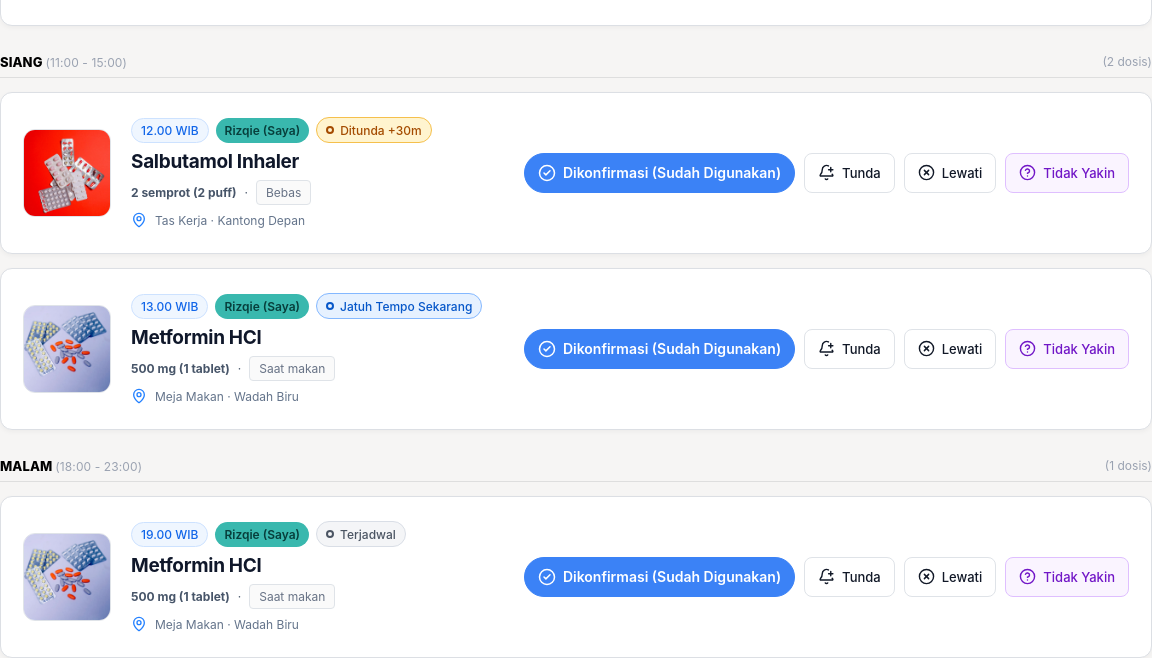
Test: TodayPage › mencatat tidak yakin dari popup sebagai status final
The width and height of the screenshot is (1152, 658).
(page scrolled)
Click the 2nd button "Tidak Yakin" at coordinates (1067, 349), box [1005,329,1129,369]
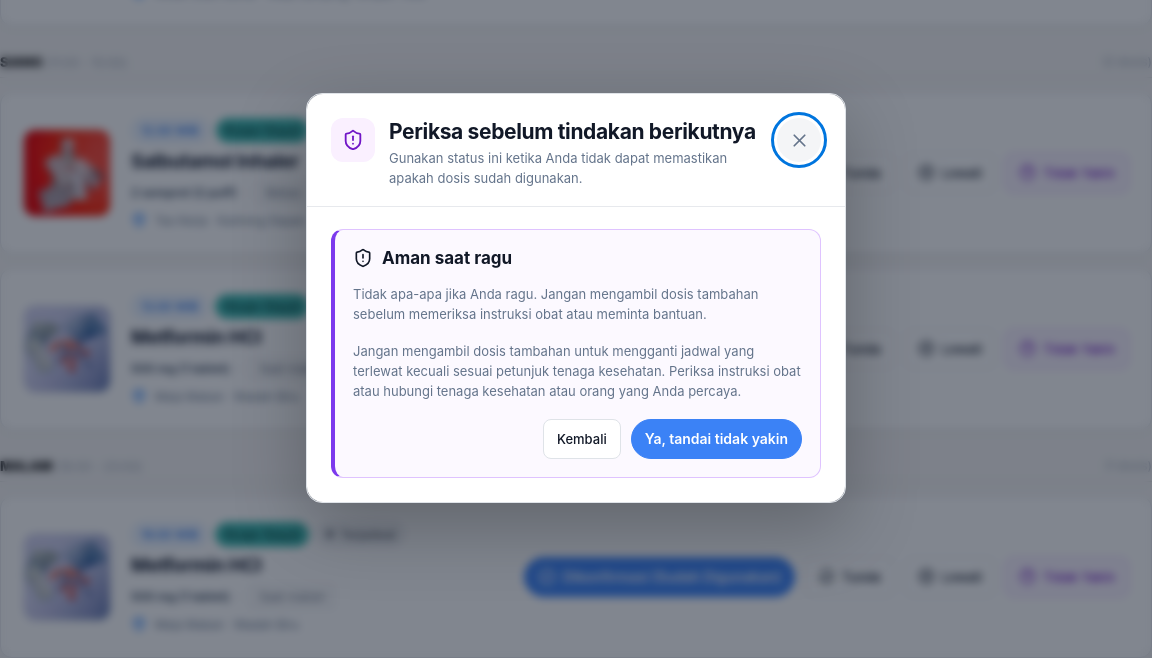
Click the button "Ya, tandai tidak yakin" at coordinates (716, 439), box [631,419,802,459]
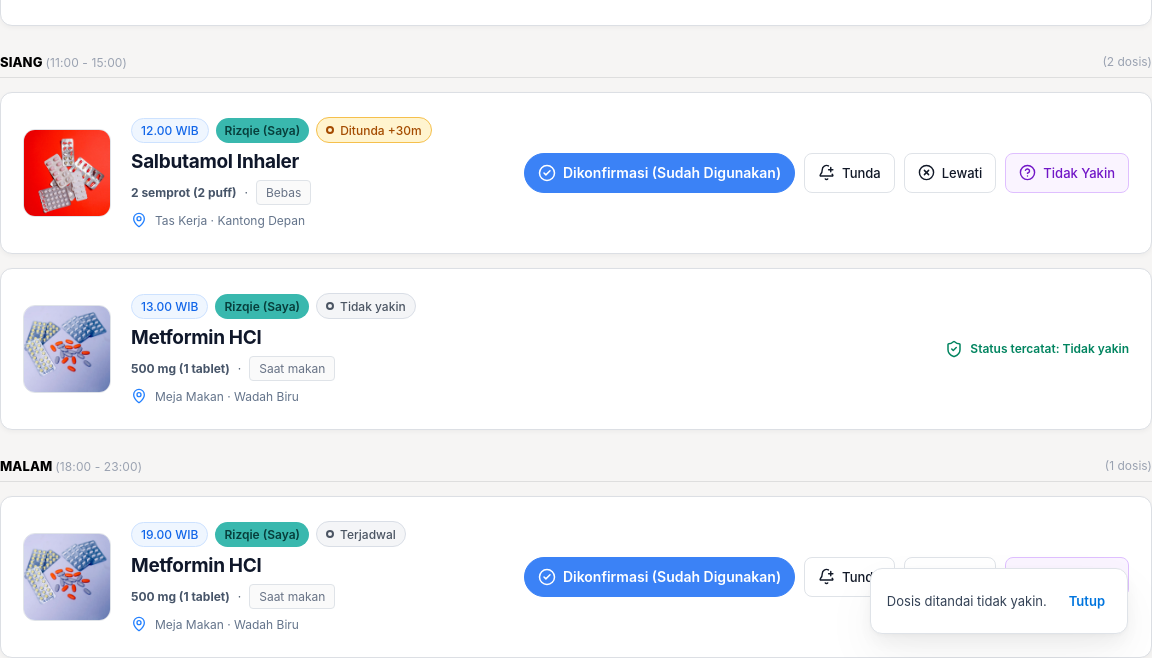
Expected: the text "Status tercatat: Tidak yakin" is shown, [970,341,1129,356]
